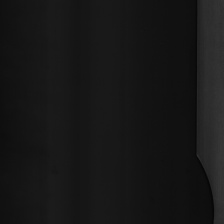crescent_gap: (194, 150, 216, 224)
